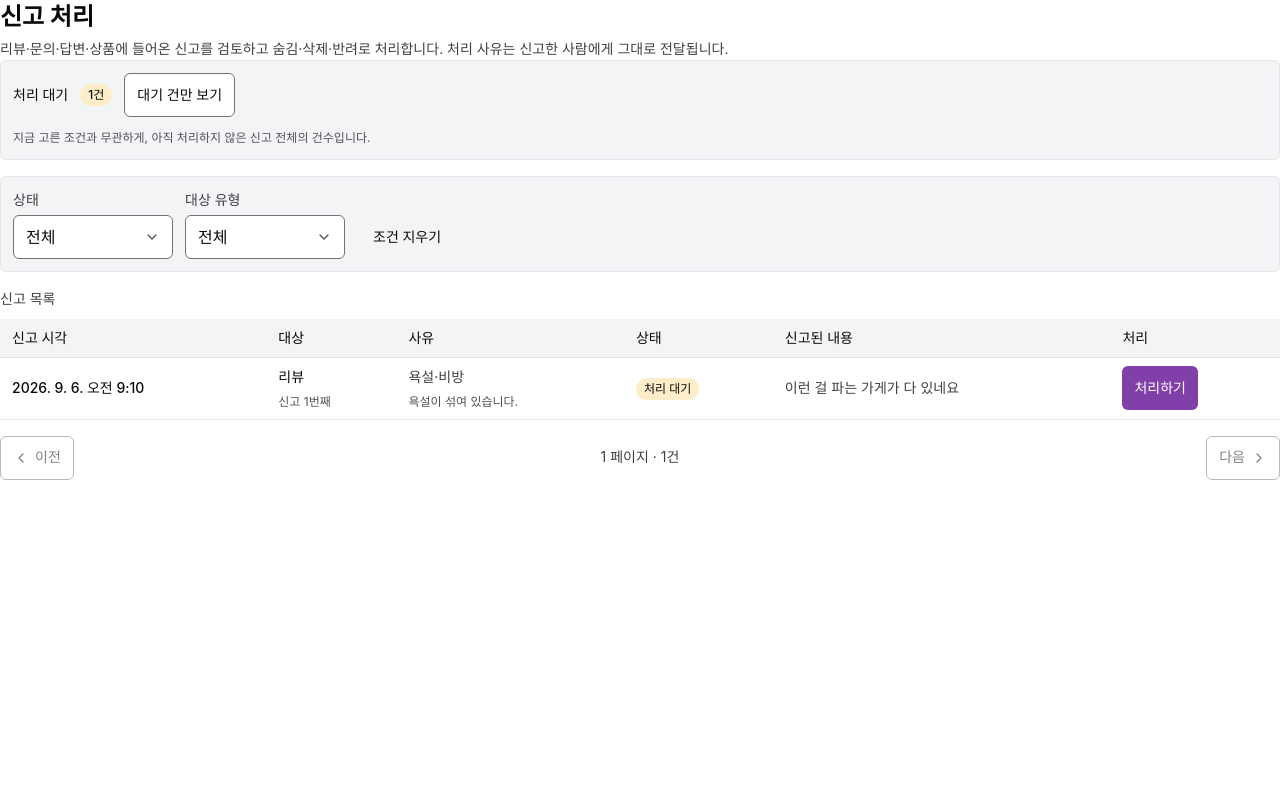
Scenario: 처리 (F4 · F5 · F6) › refuses to send a decision with no reason on it
expect the table "신고 목록" is shown: met, box [0,288,1279,420]
Click the button "처리하기": (1160, 388) [1122,366,1198,410]
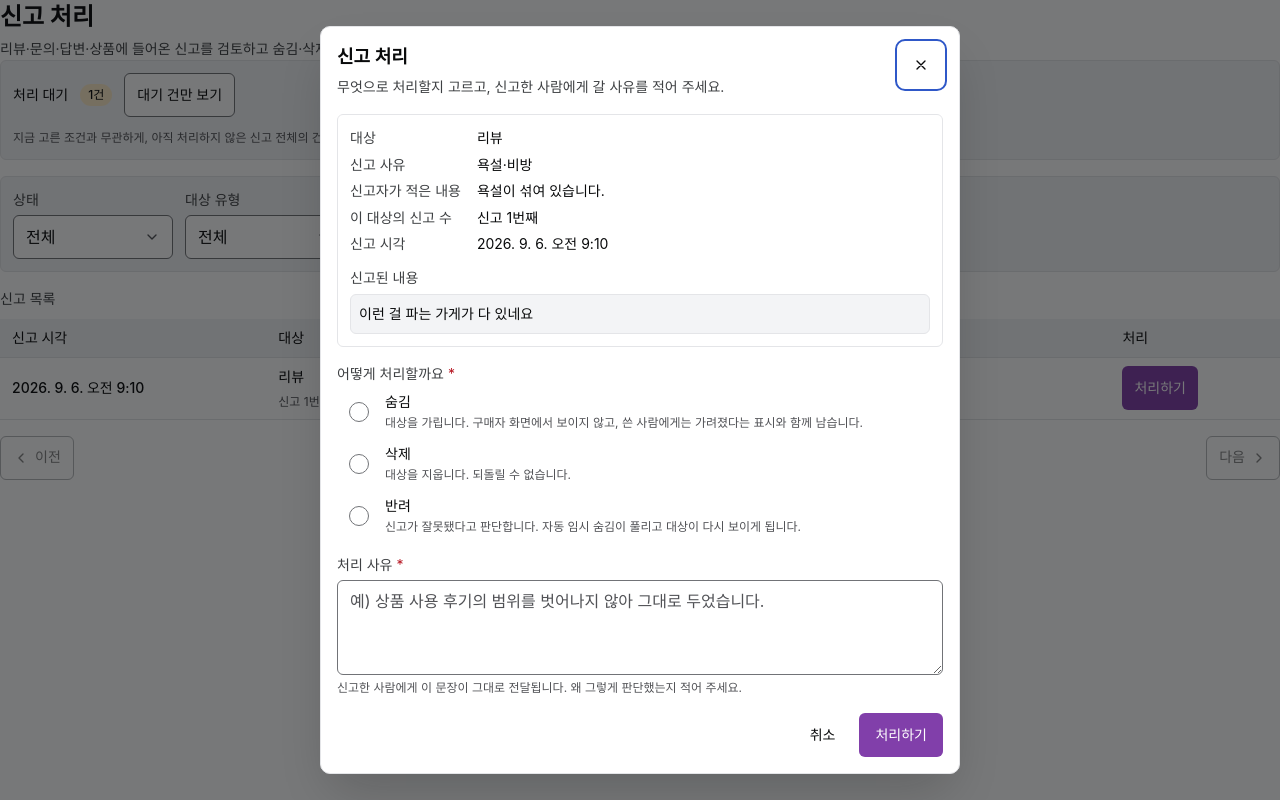
Click the 1st radio button: (359, 412) [337,390,381,434]
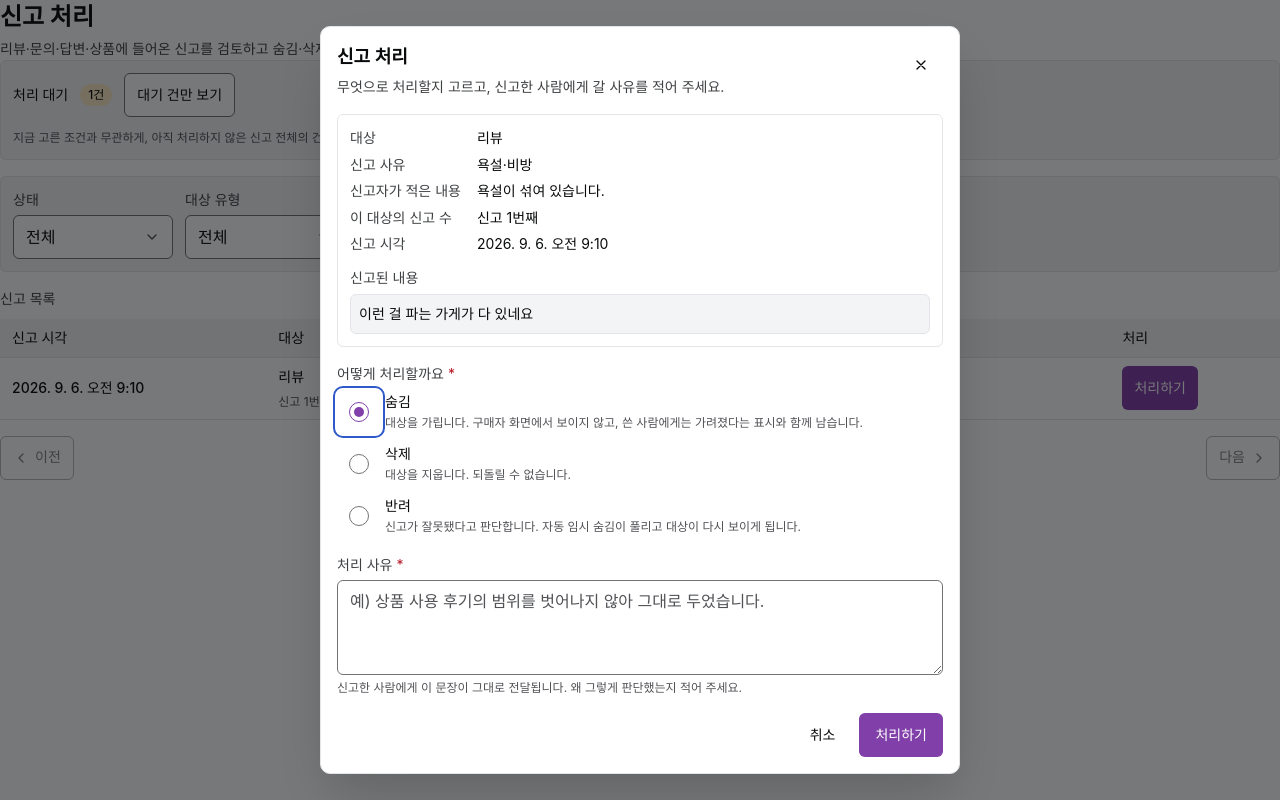
Click the button "처리하기": (901, 735) [860,713,943,757]
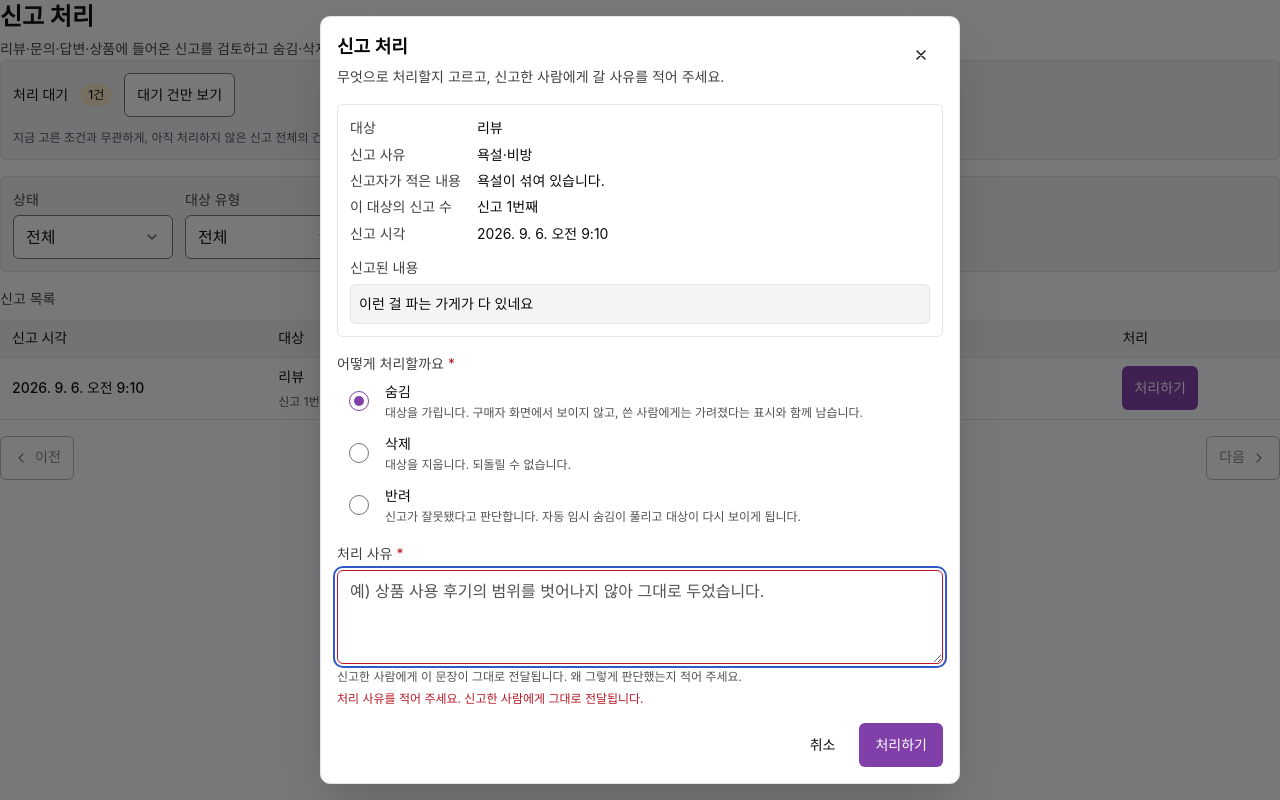
expect the text "처리 사유를 적어 주세요. 신고한 사람에게 그대로 전달됩니다." is shown: met, box [337,692,644,706]
